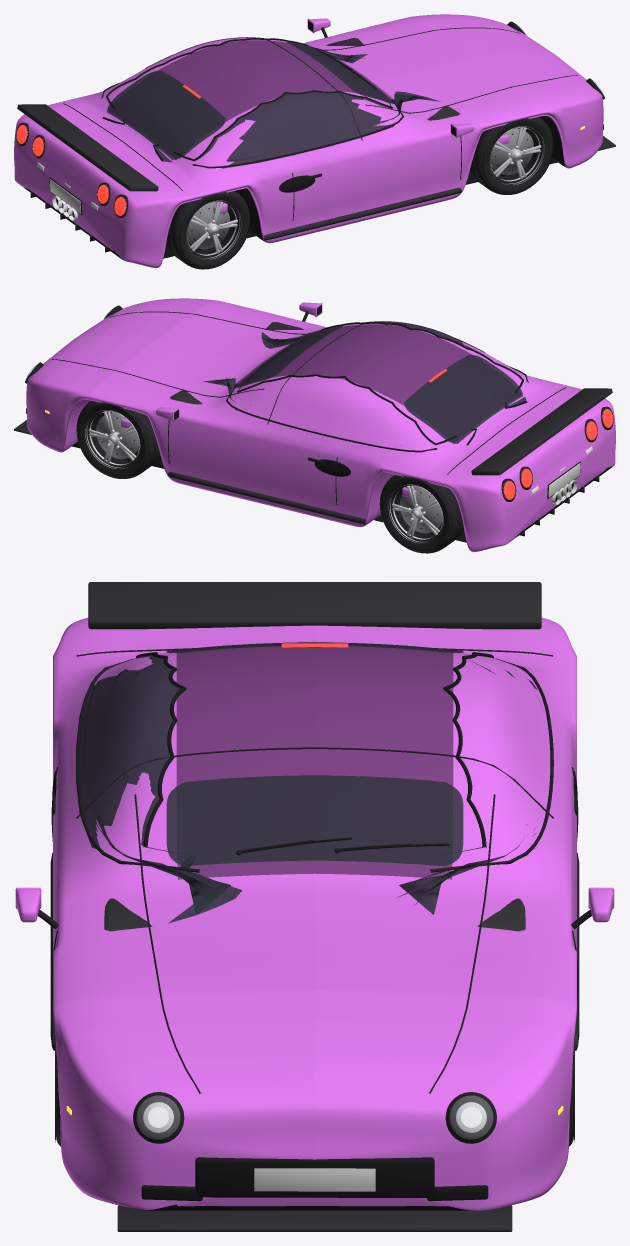
3 renders of one model, top to bottom at view 1: azimuth 30°, elevation 25°; view 2: azimuth 150°, elevation 25°; view 3: azimuth 270°, elevation 25°, orthographic. The views are drawn at different scales.
Parts seen in each view (by area): view 1: body, glass_side_R, glass_screen_1, wing_lip, wheel_RR_tyre, wheel_FR_tyre, side_skirt, glass_screen_0, wheel_RR_disc, wheel_FR_disc, wheel_FR_barrel, wheel_RR_barrel (+7 smaller); view 2: body, glass_screen_1, wing_lip, wheel_RL_tyre, wheel_FL_tyre, glass_screen_0, side_skirt.001, wheel_RL_disc, wheel_FL_disc, glass_side_R, seal_L, wheel_FL_barrel (+6 smaller); view 3: body, glass_screen_0, wing_lip, glass_side_R, splitter, grille_back, plate_front, dashboard, head_lens, head_lens.001, glass_side_L, head_housing (+7 smaller).
Part boxes in pixels (x1,y1,x2,y2): body: (14, 14, 603, 268); glass_side_R: (154, 91, 440, 168); glass_screen_1: (107, 70, 225, 159); wing_lip: (17, 104, 158, 191); wheel_RR_tyre: (166, 191, 250, 269); wheel_FR_tyre: (469, 117, 553, 194); side_skirt: (262, 187, 461, 240); glass_screen_0: (287, 41, 393, 103); wheel_RR_disc: (187, 202, 230, 249); wheel_FR_disc: (490, 128, 533, 175); wheel_FR_barrel: (490, 127, 542, 182); wheel_RR_barrel: (187, 201, 238, 257); body: (26, 298, 615, 552); glass_screen_1: (404, 354, 522, 443); wing_lip: (471, 388, 612, 475); wheel_RL_tyre: (379, 475, 463, 553); wheel_FL_tyre: (76, 401, 160, 478); glass_screen_0: (236, 325, 342, 387); side_skirt.001: (168, 471, 367, 524); wheel_RL_disc: (399, 486, 442, 533); wheel_FL_disc: (96, 412, 139, 459); glass_side_R: (261, 321, 526, 407); seal_L: (237, 374, 456, 445); wheel_FL_barrel: (87, 411, 139, 466); body: (53, 617, 576, 1210); glass_screen_0: (166, 775, 463, 866); wing_lip: (88, 582, 541, 629); glass_side_R: (76, 654, 241, 923); splitter: (117, 1205, 512, 1231); grille_back: (195, 1157, 434, 1197); plate_front: (254, 1168, 375, 1191); dashboard: (104, 898, 525, 931); head_lens: (136, 1095, 180, 1139); head_lens.001: (449, 1095, 493, 1139); glass_side_L: (397, 655, 541, 914); head_housing: (133, 1092, 184, 1143).
Bounding box in the file's own units: 4.53 × 1.13 × 2.33.
